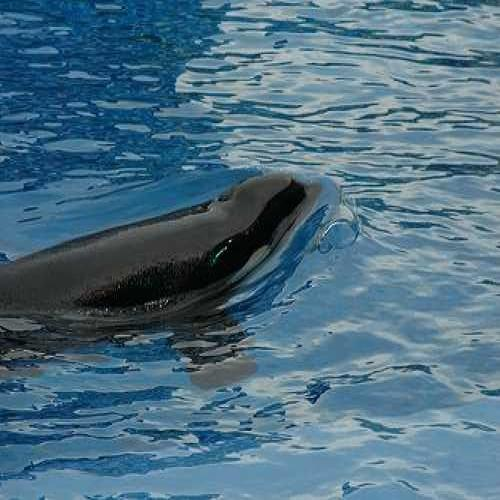killer_whale-endangered: (0, 106, 327, 377)
